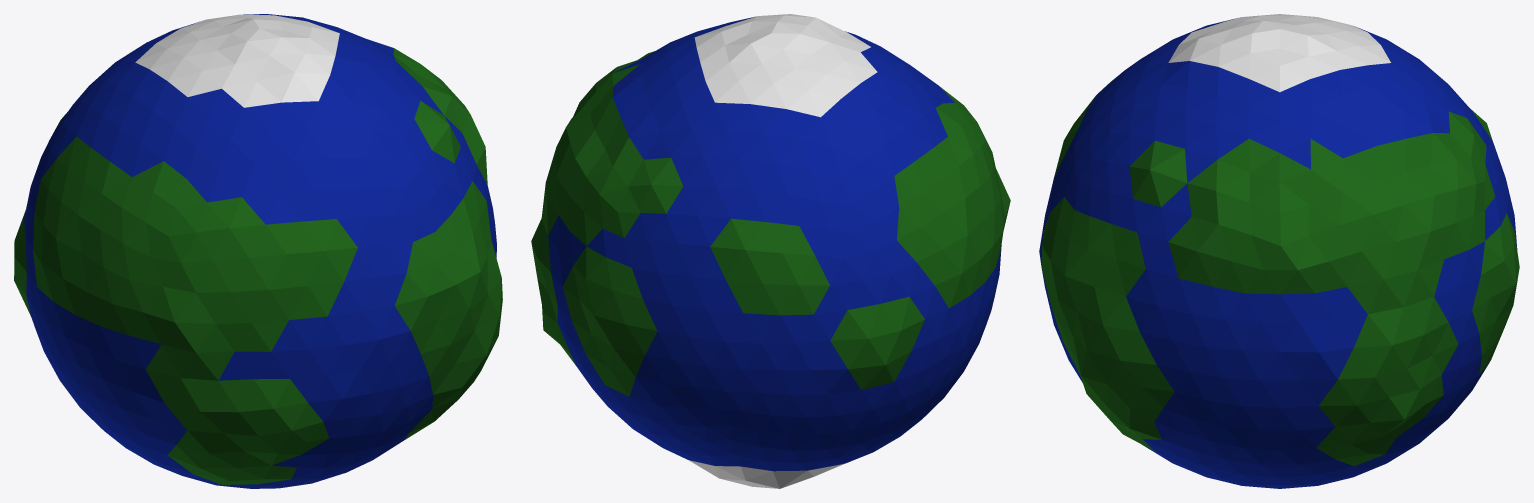
The model's file is globe.obj.
The picture shows the model from 3 angles, left to right: view 1: azimuth 30°, elevation 25°; view 2: azimuth 150°, elevation 25°; view 3: azimuth 270°, elevation 25°; orthographic projection. The views are drawn at different scales.
Visible parts, largest first — view 1: Icosphere; view 2: Icosphere; view 3: Icosphere.
Boxes of the visible parts, x1=… form: Icosphere: x1=14, y1=14, x2=502, y2=488; Icosphere: x1=531, y1=14, x2=1010, y2=488; Icosphere: x1=1039, y1=14, x2=1519, y2=488.
Bounding box in the file's own units: 2.01 × 2.05 × 2.02.
